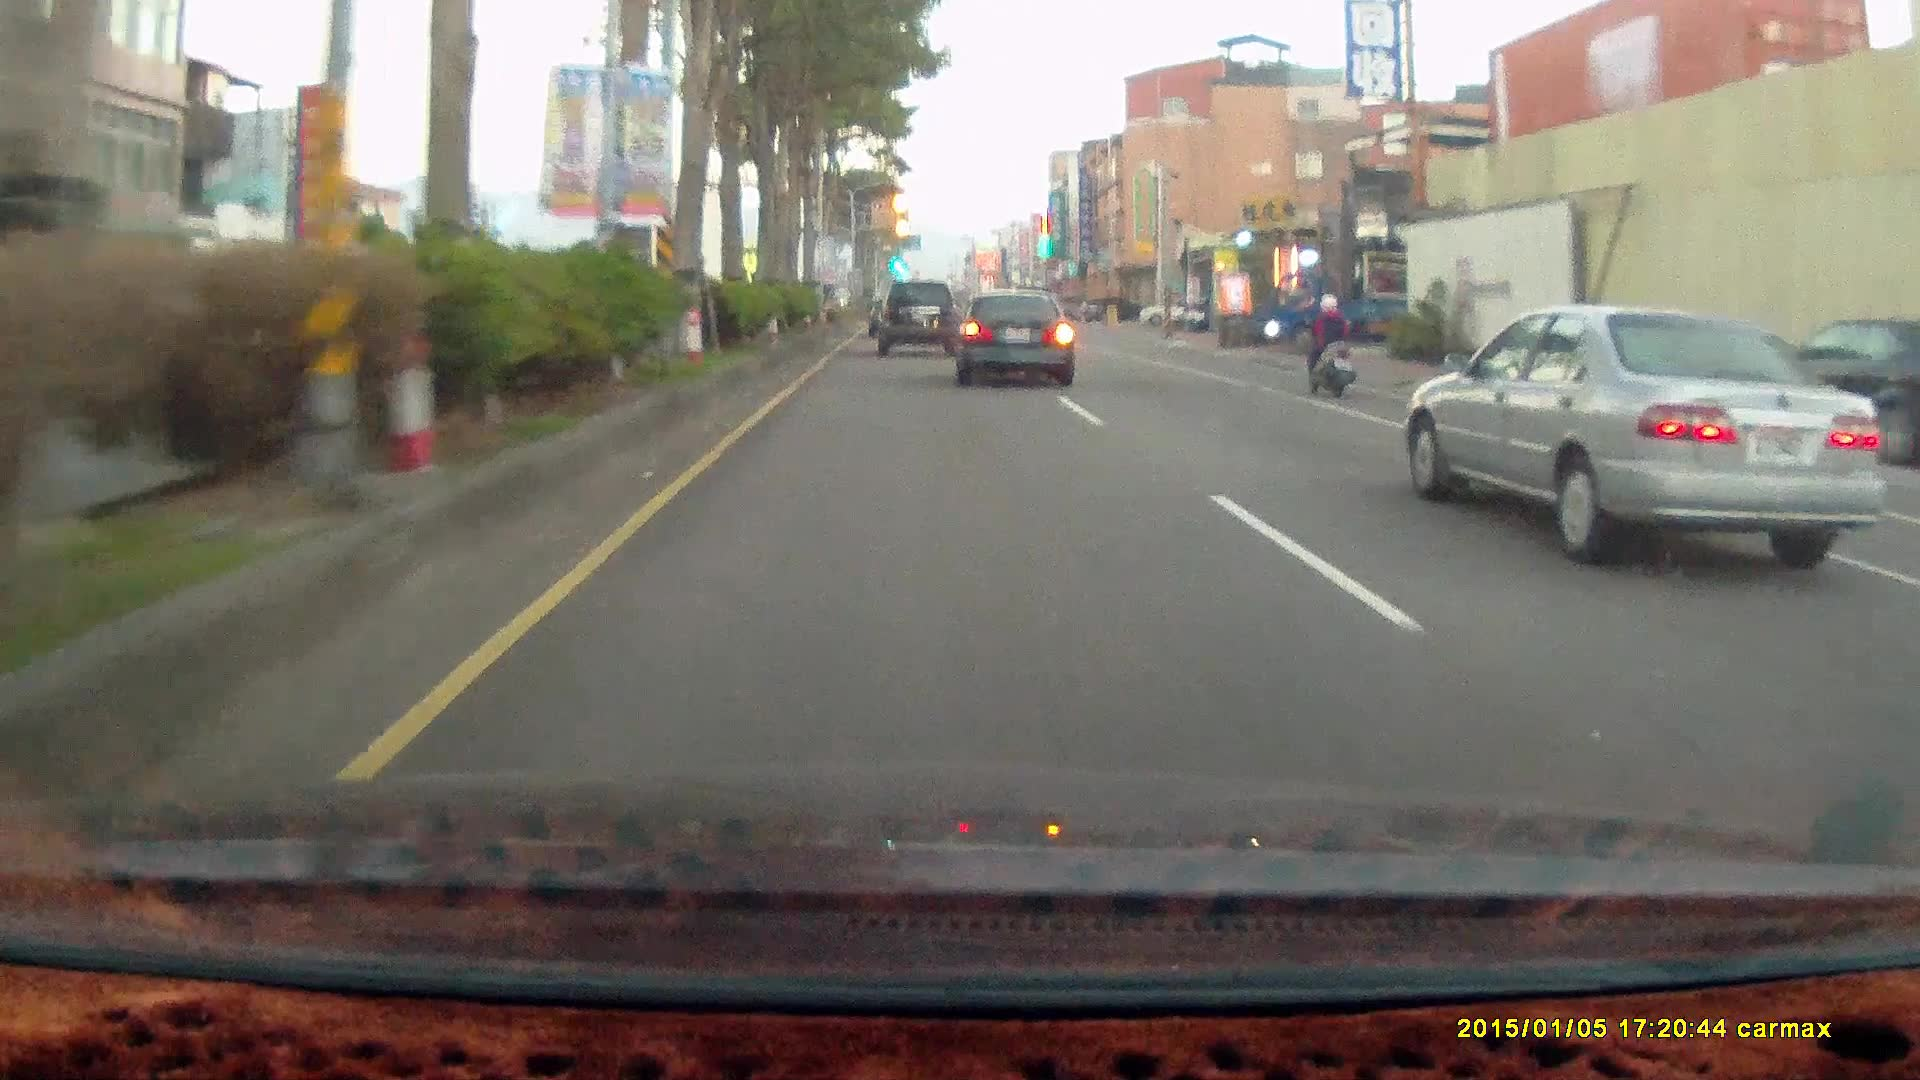rider: (1292, 284, 1366, 408), (1298, 292, 1355, 401)
vehicle: (1405, 305, 1885, 573), (1403, 301, 1882, 561), (1261, 270, 1450, 354), (952, 287, 1076, 388), (958, 294, 1083, 390), (1265, 268, 1416, 346), (876, 280, 959, 355), (878, 283, 961, 354), (1137, 296, 1199, 326), (1083, 296, 1147, 322)
